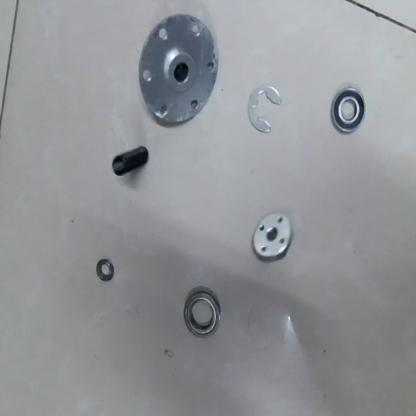FOD: (133, 12, 222, 128), (182, 285, 223, 342), (251, 213, 296, 264), (242, 87, 284, 137), (326, 90, 368, 138), (108, 142, 154, 180), (97, 259, 115, 281)
